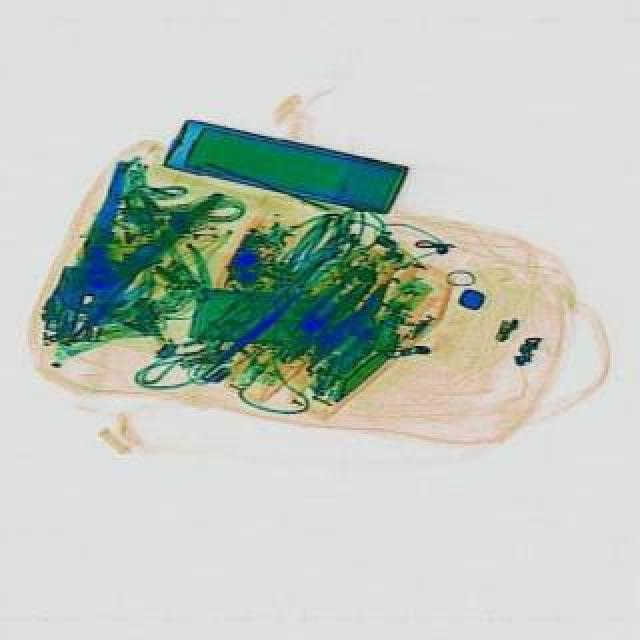wrench: (30, 146, 222, 342)
